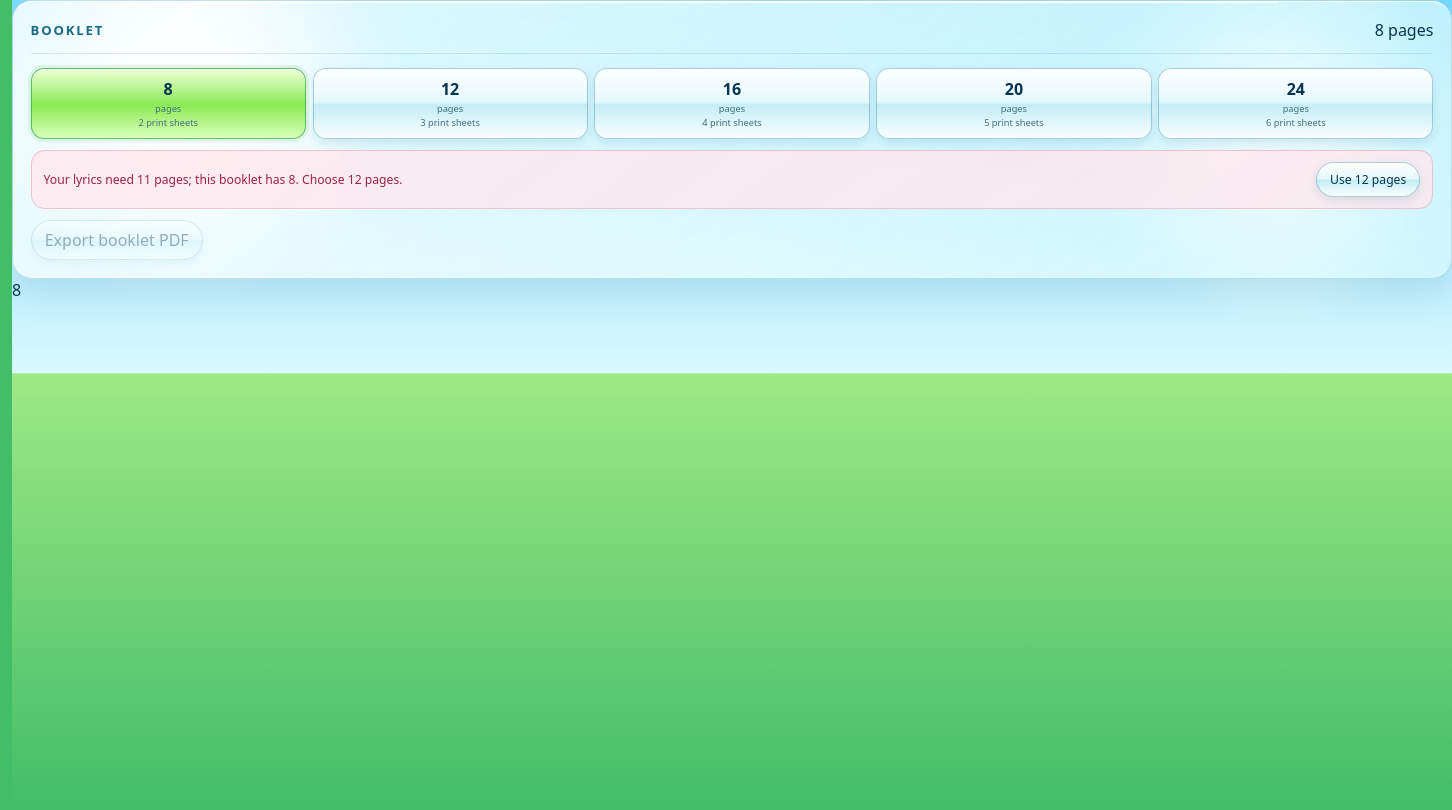
Test: booklet rules › blocks export on overflow and applies the recommended real template
Expected: the message with test id "booklet-validation" shows "Your lyrics need 11 pages", [44,171,402,188]
Expected: the button with test id "export-booklet" is disabled, [31,220,203,260]
Click the button "Use 12 pages" at point(1368, 179), box [1316,162,1420,197]
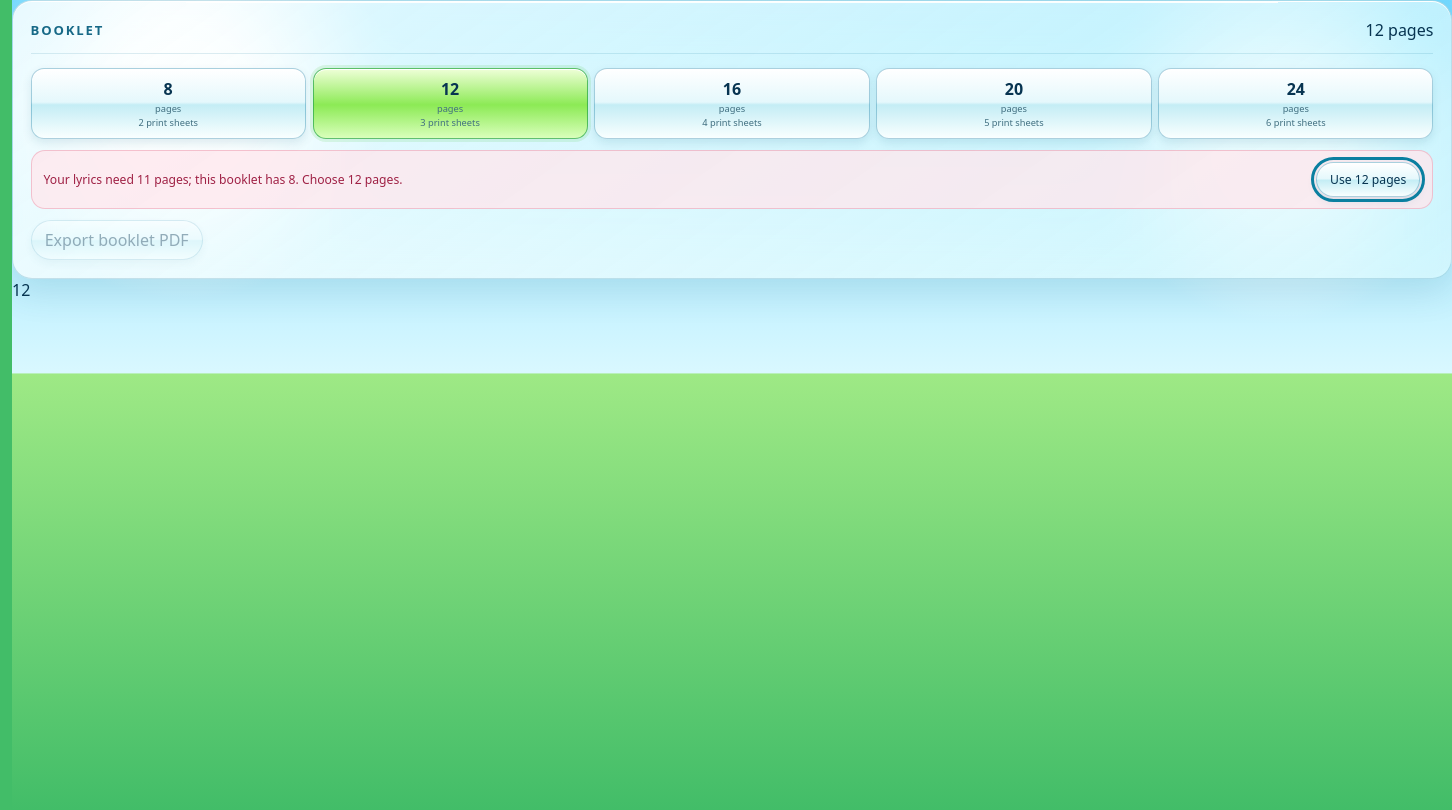
Expected: the text with test id "parent-pages" reads "12", [12,279,30,301]
